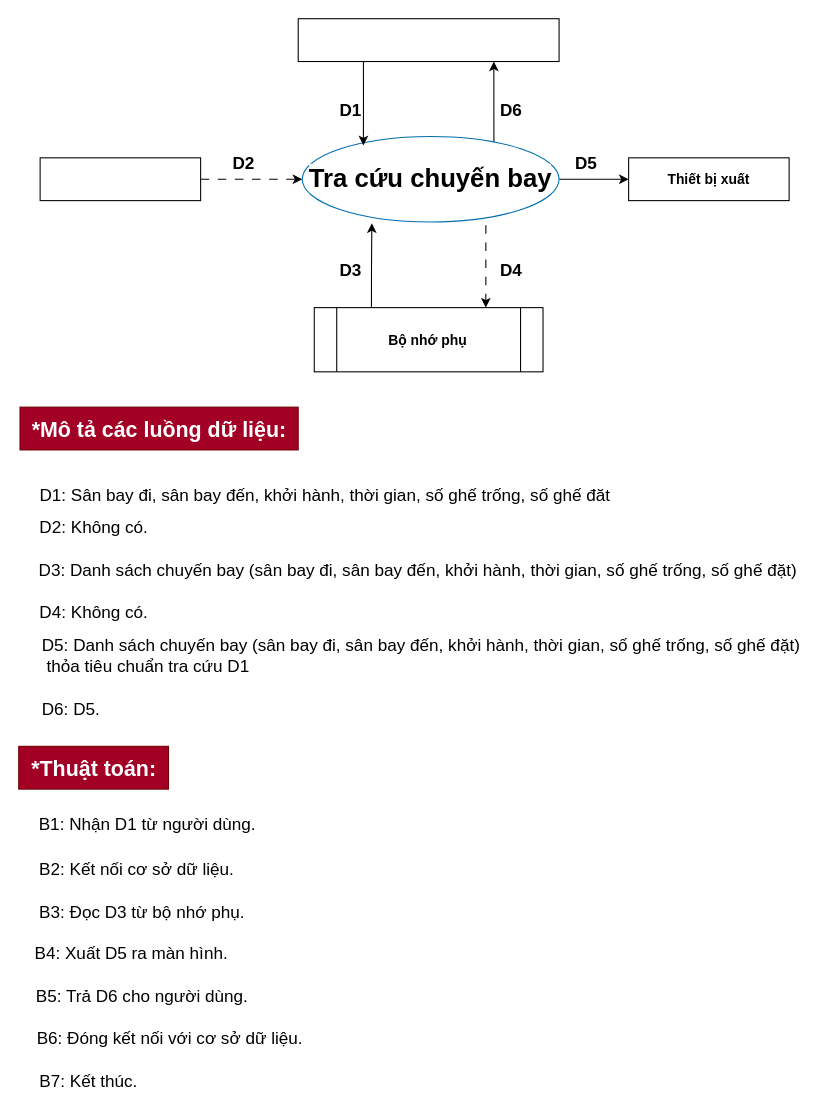
The diagram is 840 pixels wide and 1116 high, and some of its shapes have lost their labels. Here are the shapes that lost their labels. From the top down, the centre of each, then its label:
At (428,40): "Người dùng".
At (120,179): "Thiết bị nhập".
